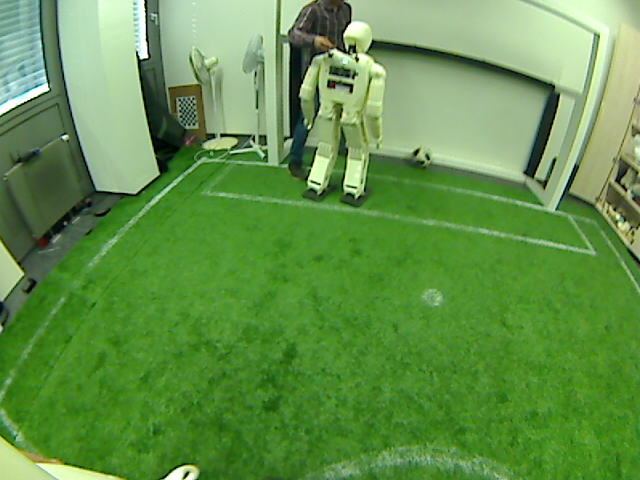ball: (406, 142, 432, 171)
goalpost: (538, 164, 561, 213), (265, 130, 282, 164)
robot: (302, 128, 368, 203)
